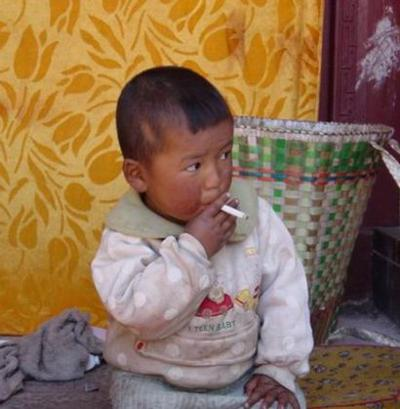person: (89, 60, 316, 408)
